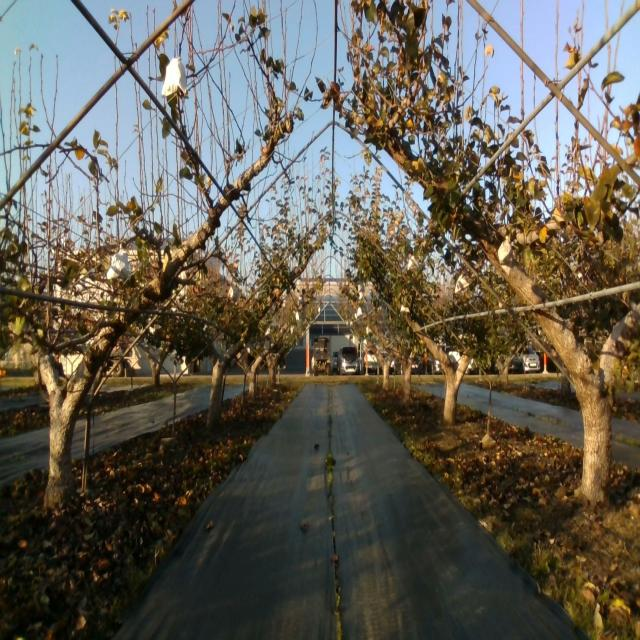pearbags: (160, 56, 187, 98), (106, 243, 130, 281), (497, 236, 513, 276), (454, 273, 469, 294), (408, 254, 420, 271)
